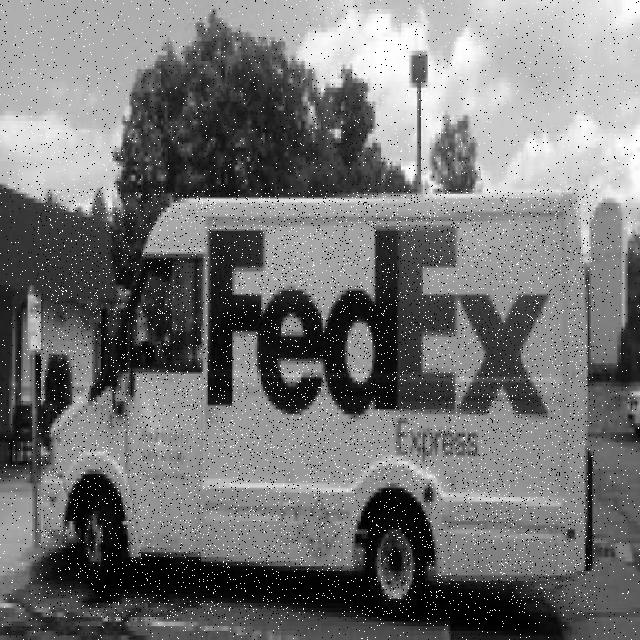Box Truck: (37, 189, 595, 620)
